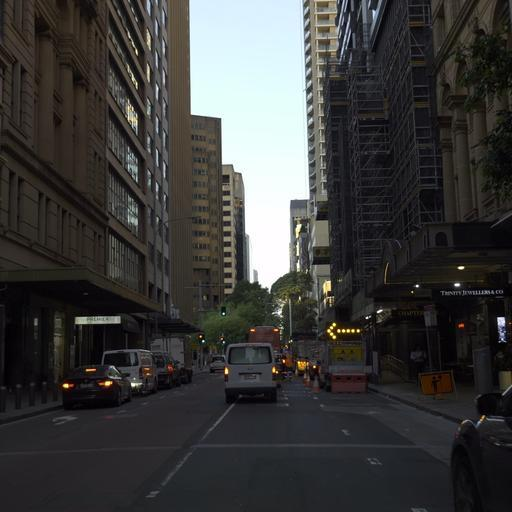Street light: (155, 213, 202, 353), (197, 332, 205, 367)
